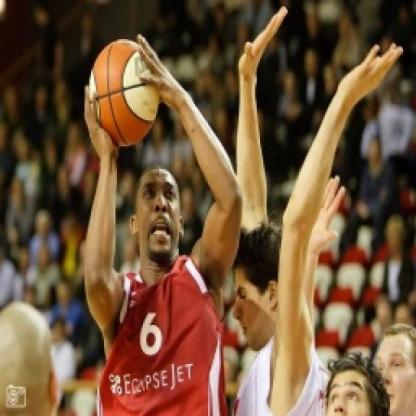basketball: (82, 35, 166, 150)
